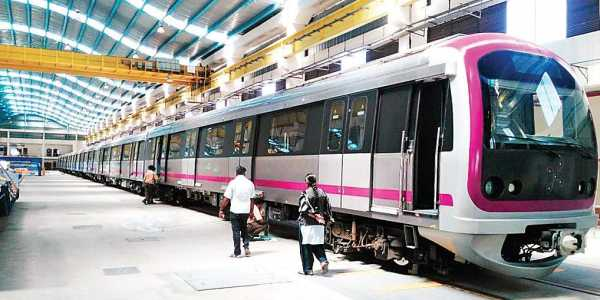train: (61, 39, 592, 269)
